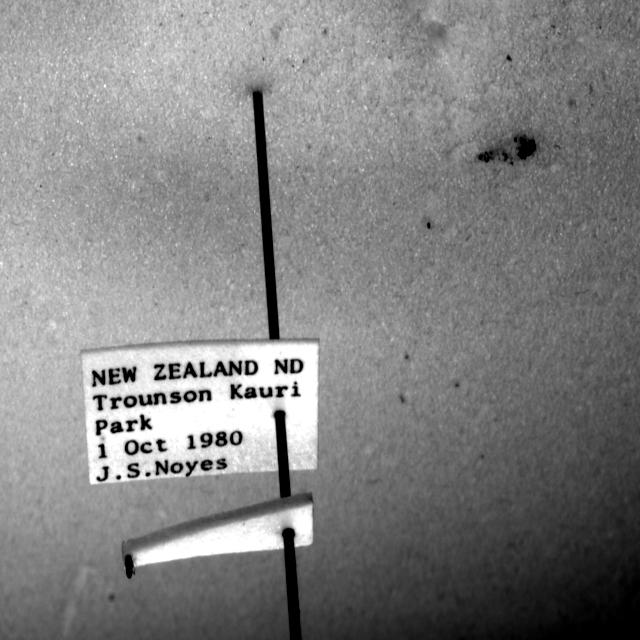typed_label: (81, 339, 319, 484)
